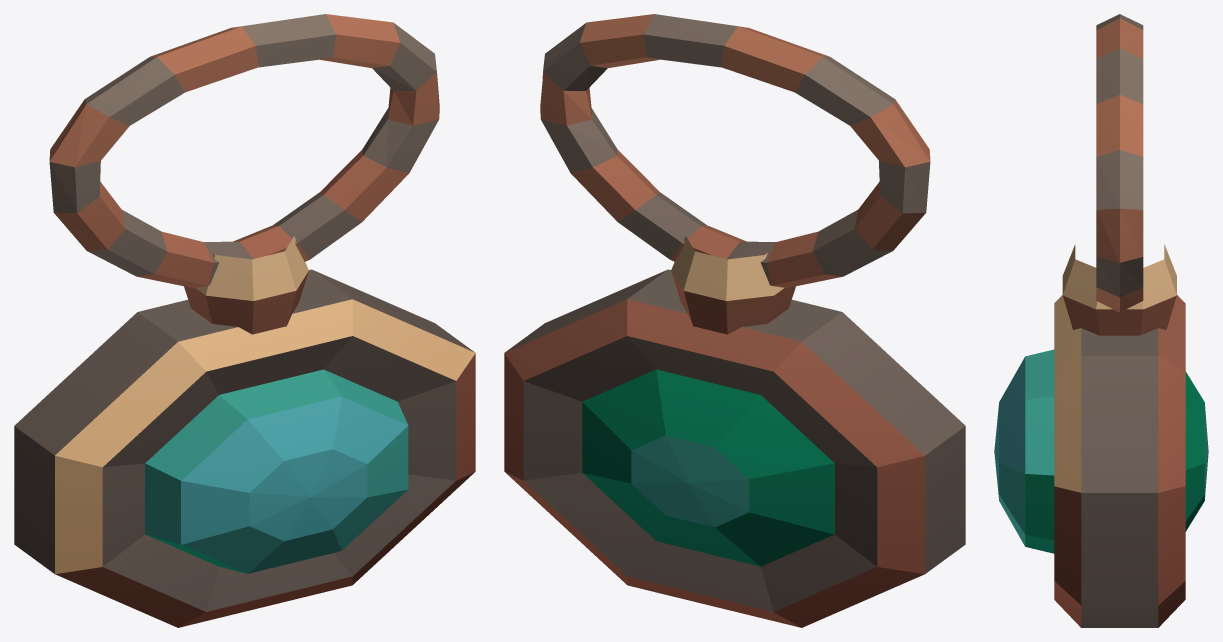
The model's file is source.glb.
3 views of the same model, side by side, from view 1: azimuth 30°, elevation 25°; view 2: azimuth 150°, elevation 25°; view 3: azimuth 270°, elevation 25° (orthographic). The views are drawn at different scales.
Parts seen in each view (by area): view 1: model; view 2: model; view 3: model.
Boxes of the visible parts, left/top/right/bottom form: model: left=14, top=14, right=475, bottom=627; model: left=504, top=14, right=965, bottom=627; model: left=994, top=14, right=1208, bottom=627.
Size of the model in its own units: 0.56 by 0.72 by 0.26.
Materials: 1 (1 with a texture image).
